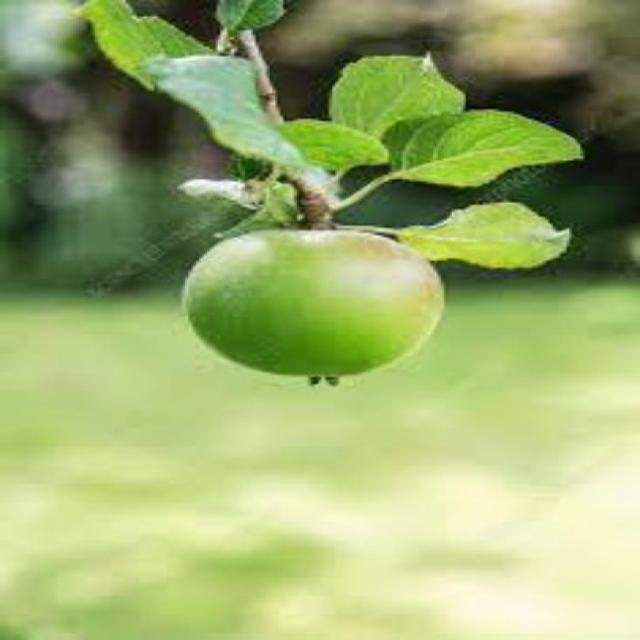Healty Apple: (160, 202, 478, 396)
